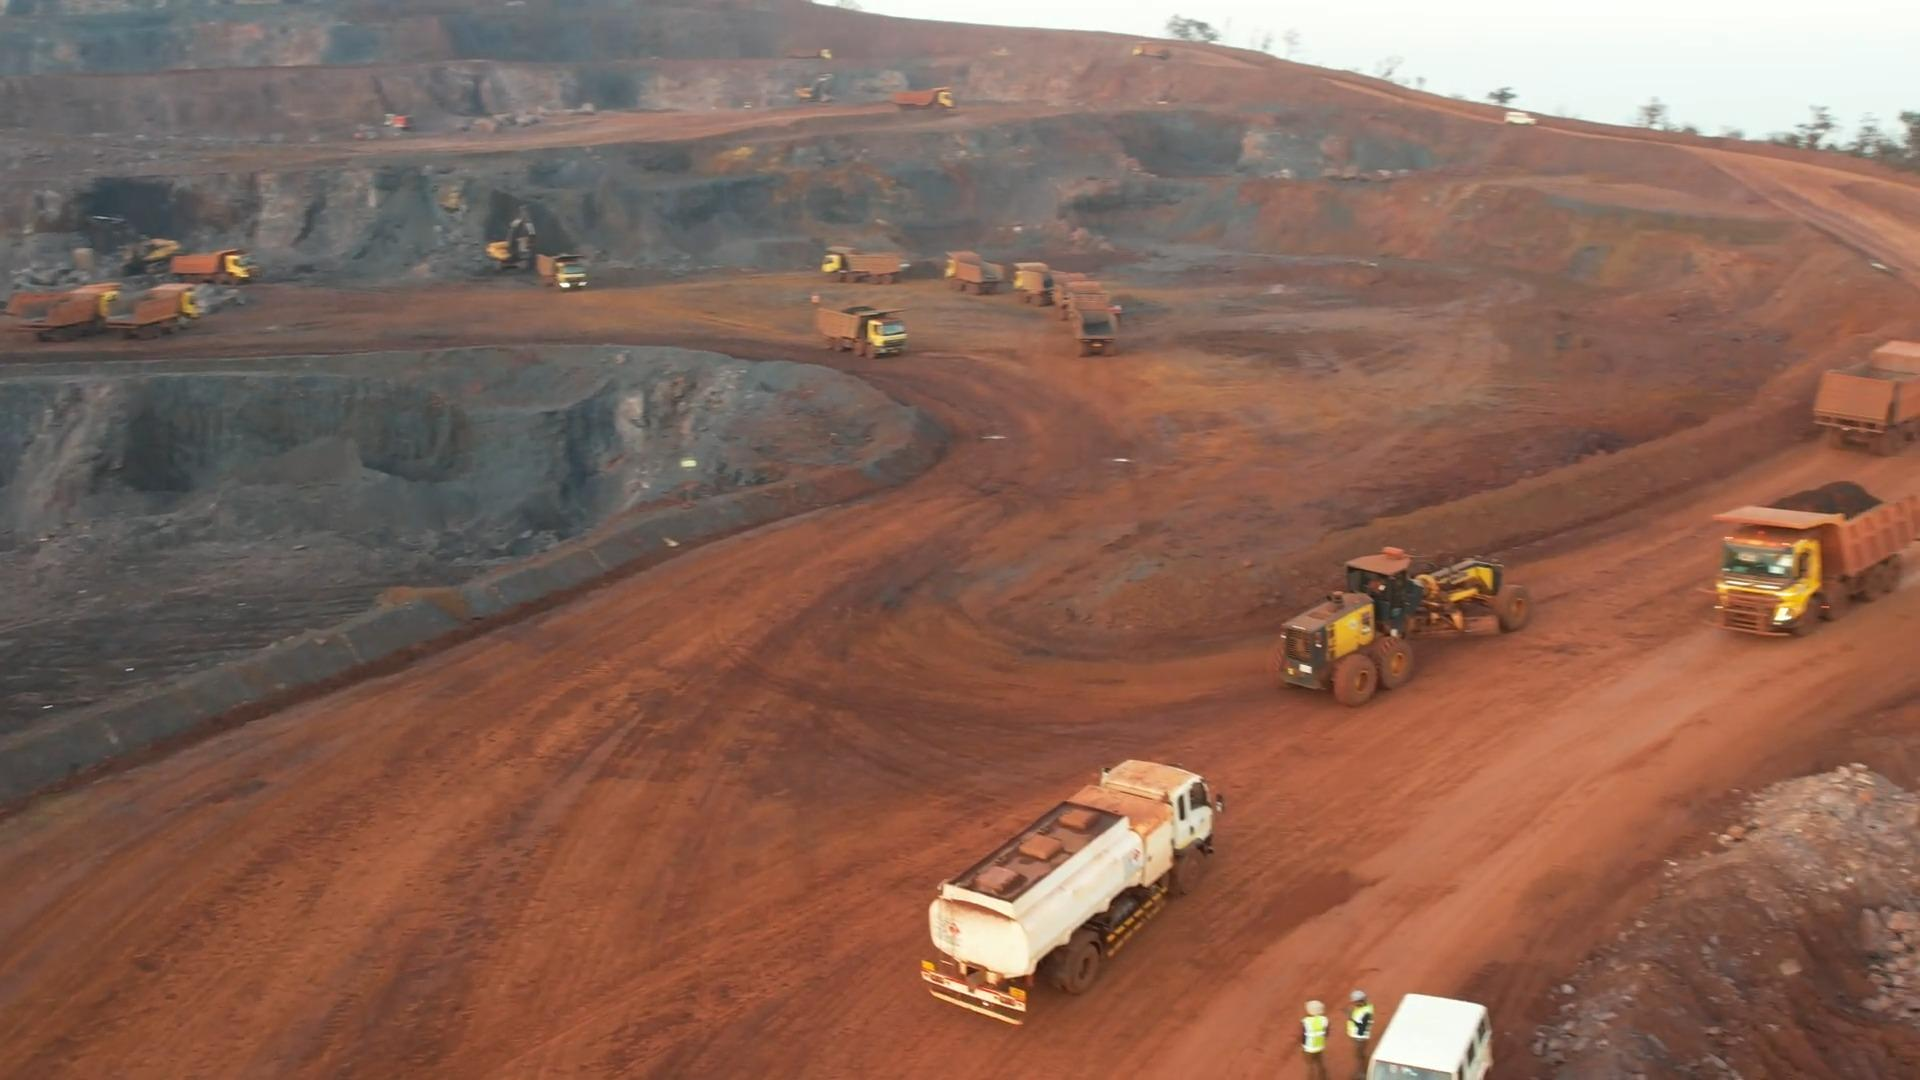excavator: (76, 214, 173, 274), (484, 206, 537, 274)
